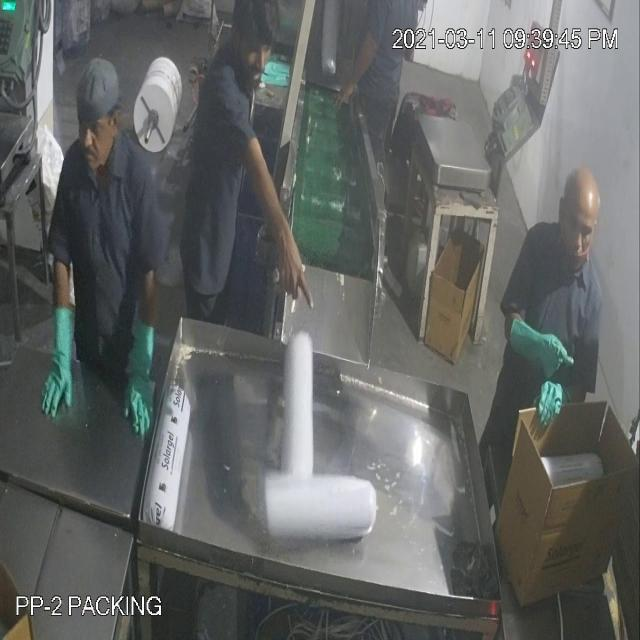No_Gloves: (35, 70, 542, 382)
